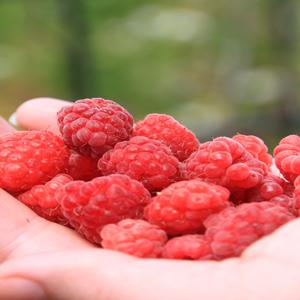raspb: (5, 113, 286, 250)
